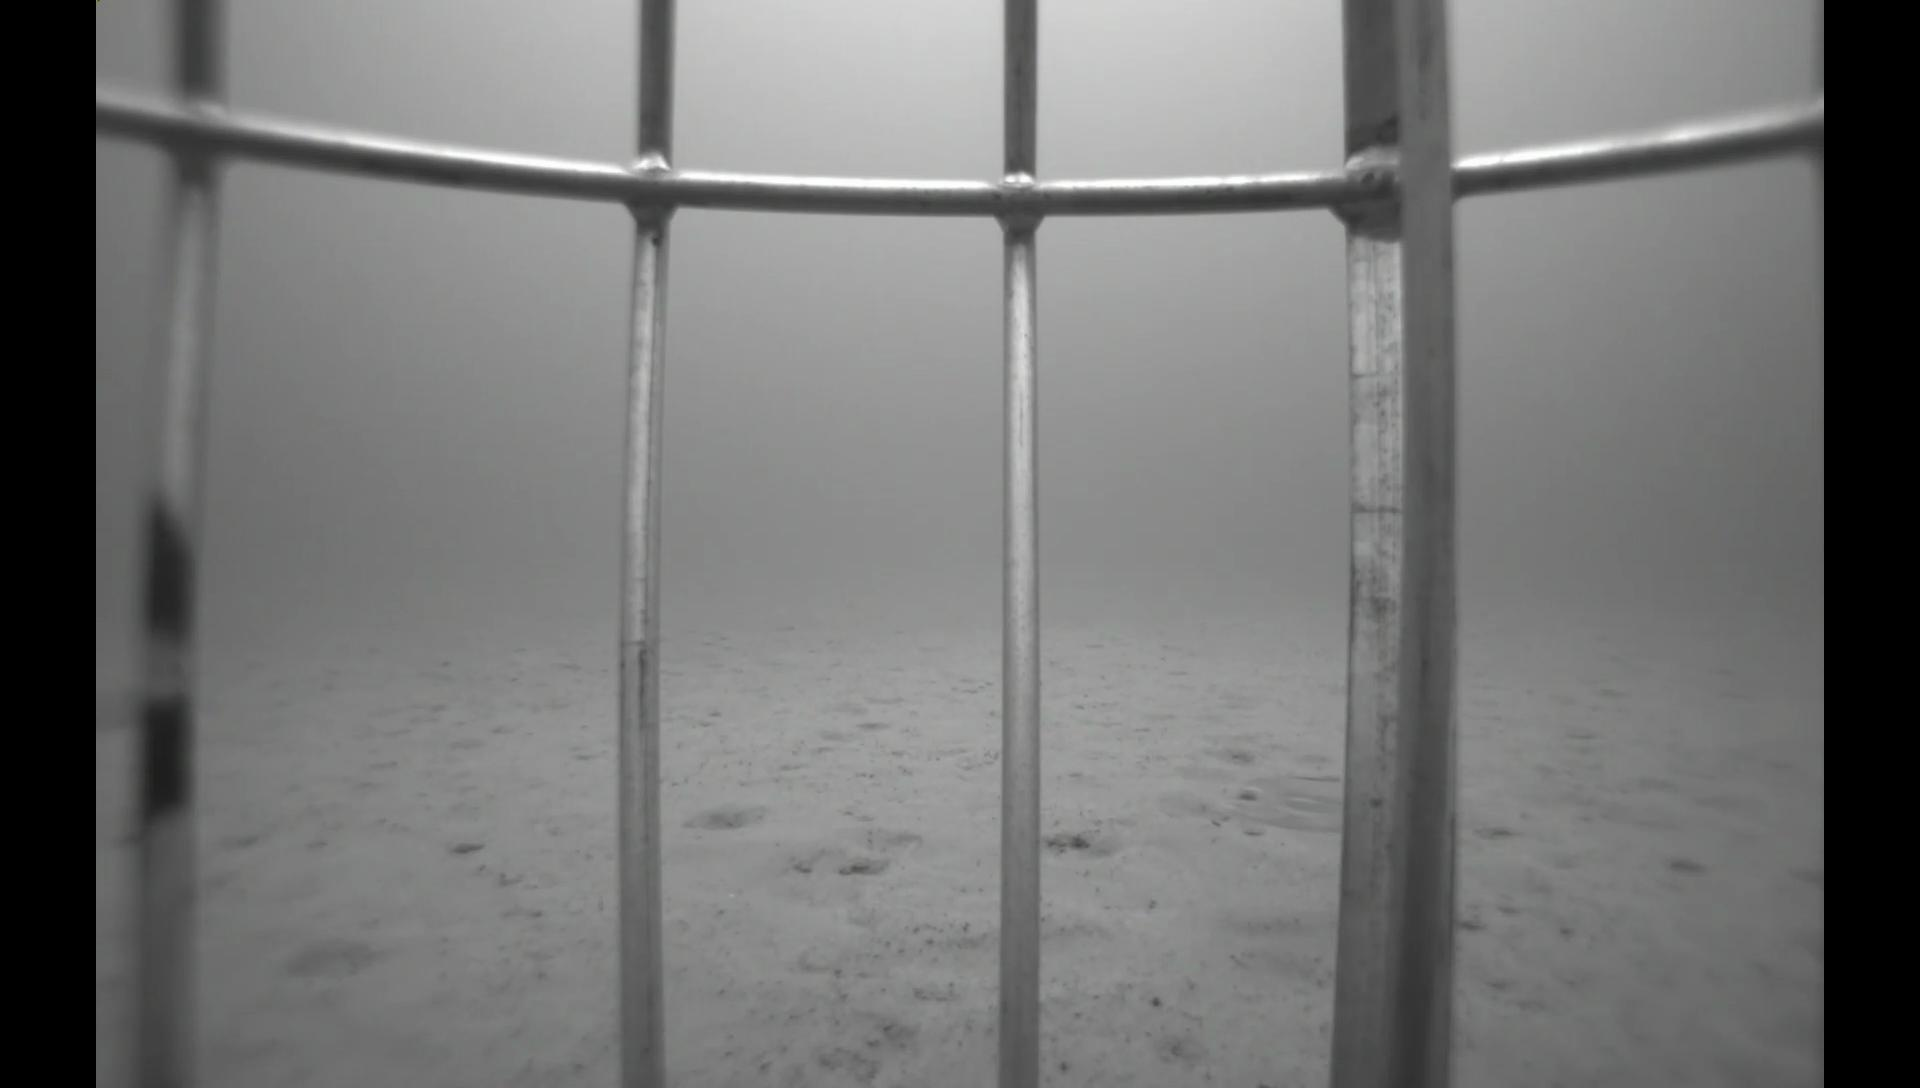CAULOLATILUSCYANOPS-170070101: (1249, 766, 1481, 869)
